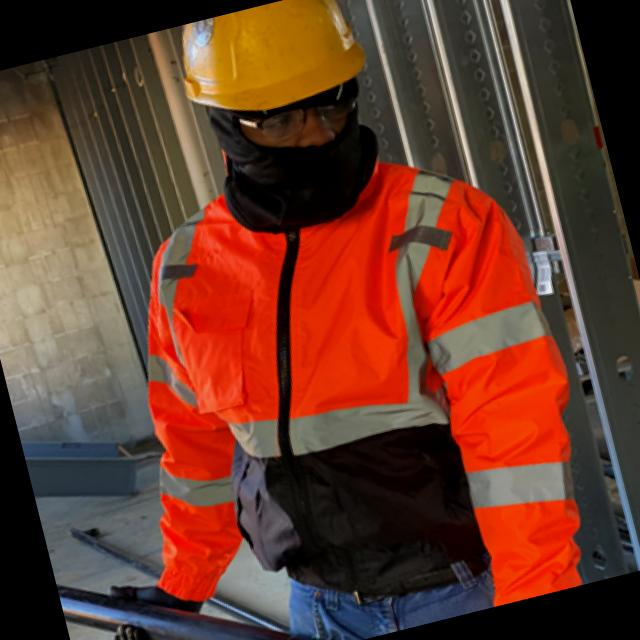goggles: (210, 75, 389, 167)
helmet: (19, 0, 634, 640), (154, 0, 393, 125)
vest: (121, 134, 594, 640)
